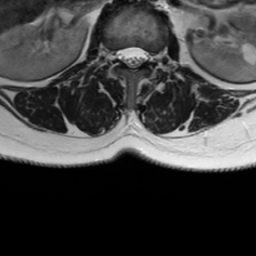CCS_normal: (128, 39, 137, 78)
LFS_normal: (148, 41, 158, 70)
LLS_normal: (137, 39, 148, 73)
RFS_normal: (106, 42, 118, 71)
RLS_normal: (117, 41, 128, 71)
